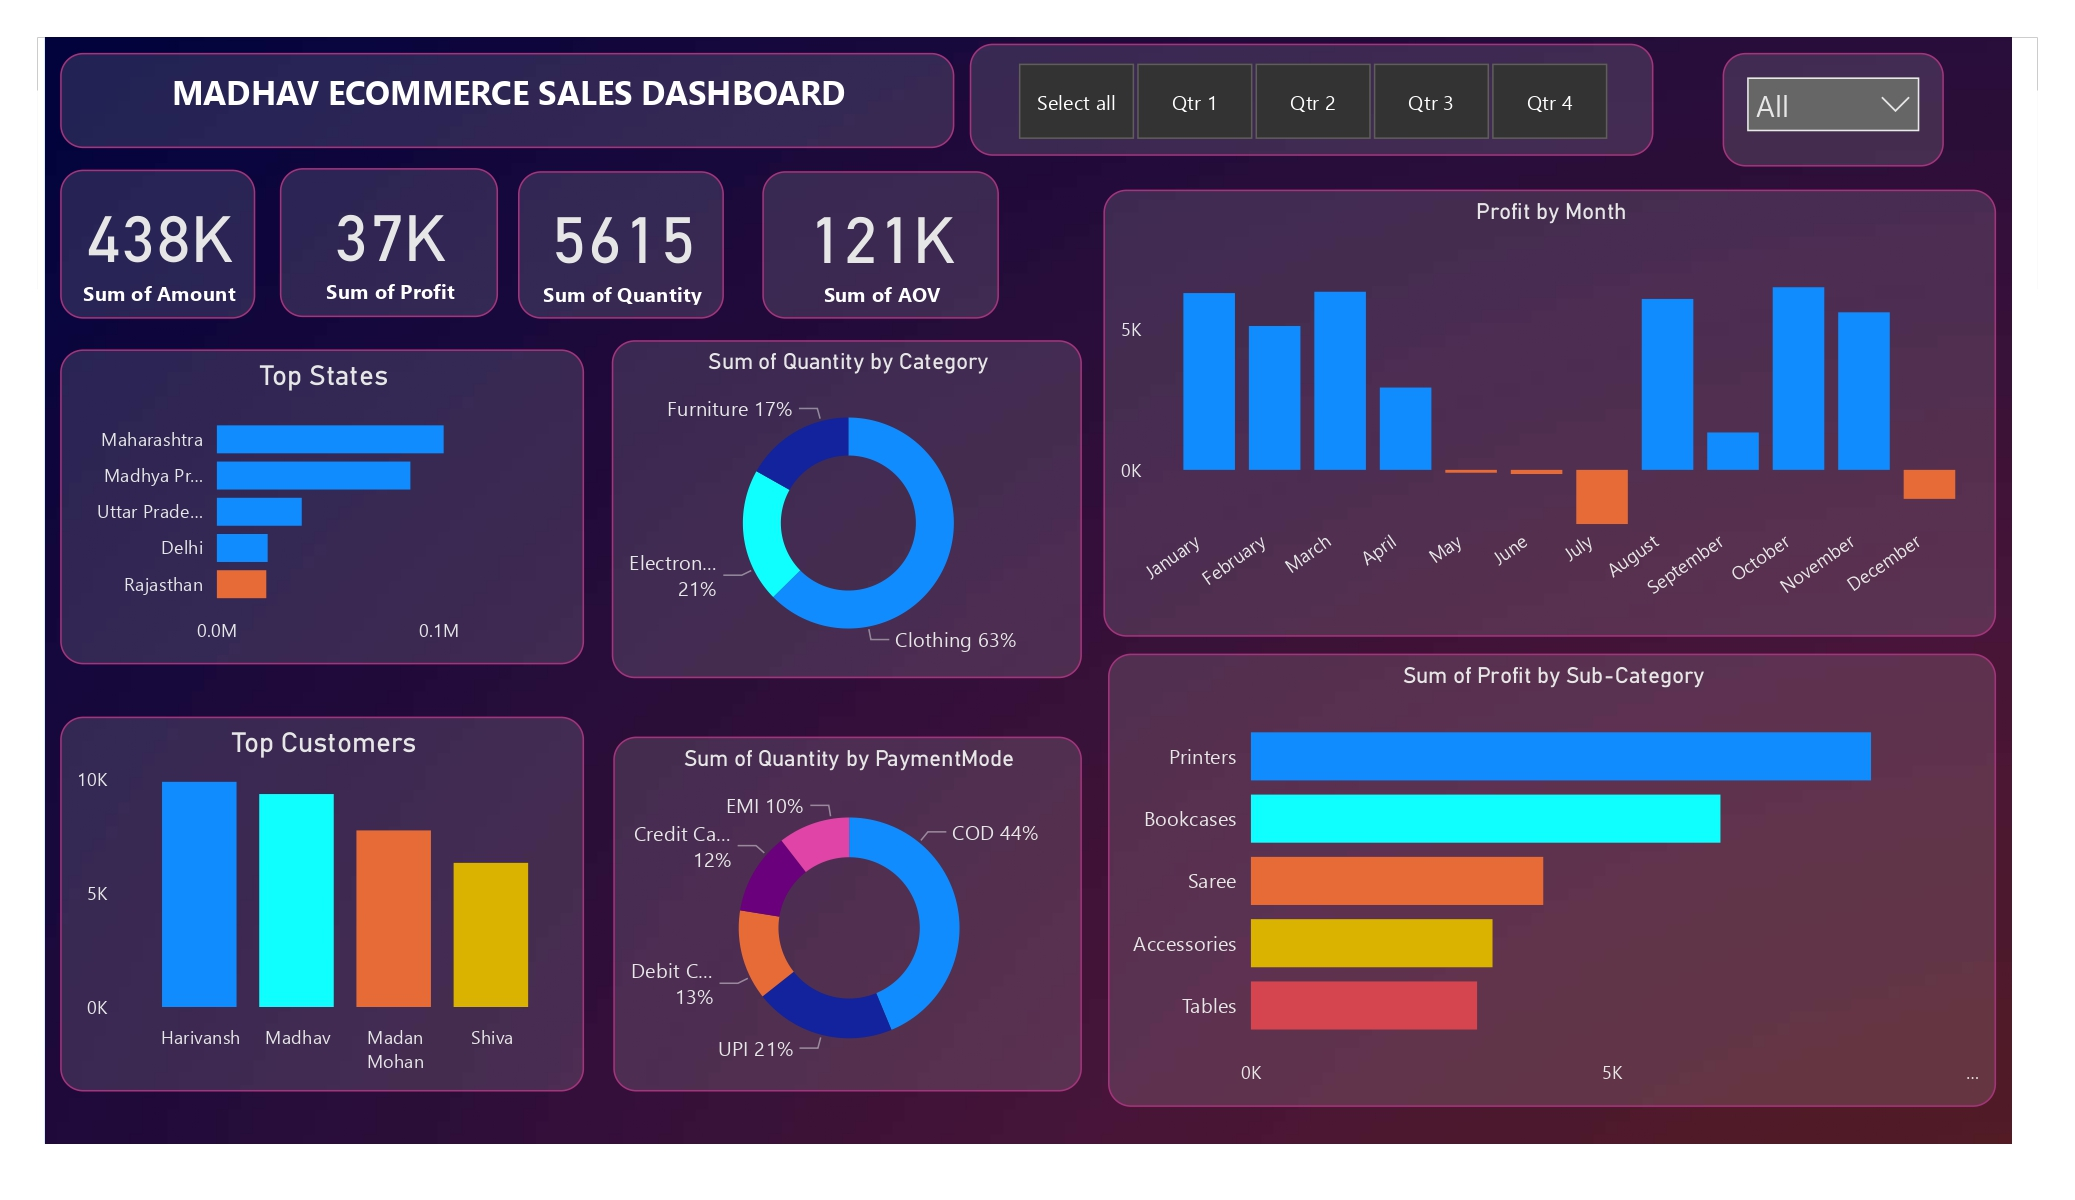

This screenshot's page, from the dashboard's own definition file:
{"tool":"powerbi","page":{"name":"Page 1","canvas":[1280,720],"ordinal":0},"visuals":[{"type":"textbox","box":[9.9,9.9,582.5,62.4],"z":0},{"type":"columnChart","title":"Profit by Month","fields":{"Category":["Orders.Order Date.Variation.Date Hierarchy.Month"],"Y":["Details.Profit"]},"box":[688.8,99.2,581.1,290.6],"z":1000},{"type":"barChart","fields":{"Category":["Details.Sub-Category"],"Y":["Details.Profit"]},"box":[691.7,401.1,578.3,294.8],"z":2000},{"type":"donutChart","fields":{"Y":["Details.Quantity"],"Category":["Details.Category"]},"box":[368.5,197,306.1,219.7],"z":3000},{"type":"donutChart","fields":{"Y":["Details.Quantity"],"Category":["Details.PaymentMode"]},"box":[369.9,455,304.7,231],"z":4000},{"type":"card","fields":{"Values":["Details.Amount"]},"box":[9.9,86.5,127.6,96.4],"z":5000},{"type":"card","fields":{"Values":["Details.Quantity"]},"box":[307.6,86.9,134.6,96.4],"z":6000},{"type":"card","fields":{"Values":["Details.Profit"]},"box":[153.1,85.5,141.7,96.4],"z":7000},{"type":"card","fields":{"Values":["Details.AOV"]},"box":[467.1,87.1,154.3,95.7],"z":8000},{"type":"barChart","title":"Top States","fields":{"Category":["Orders.State"],"Y":["Details.Amount"]},"box":[9.9,202.7,341.6,205.5],"z":8001},{"type":"columnChart","title":"Top Customers","fields":{"Category":["Orders.CustomerName"],"Y":["Details.Amount"]},"box":[9.9,442.2,341.6,243.8],"z":8002},{"type":"slicer","fields":{"Values":["Orders.Order Date.Variation.Date Hierarchy.Quarter"]},"box":[602.4,4.3,445,72.3],"z":8003},{"type":"slicer","fields":{"Values":["Orders.State"]},"box":[1091.9,10.1,144.5,73.9],"z":8004}]}

Visuals, with their boxes on the page's 1280x720 design canvas (x1, y1, x2, y2). These are canvas units, not pixel positions in the 2075x1200 screenshot, which may show the page scaled, cropped or inside an application window:
textbox: [x1=10, y1=10, x2=592, y2=72]
"Profit by Month" columnChart: [x1=689, y1=99, x2=1270, y2=390]
barChart - Details.Sub-Category x Details.Profit: [x1=692, y1=401, x2=1270, y2=696]
donutChart - Details.Quantity x Details.Category: [x1=368, y1=197, x2=675, y2=417]
donutChart - Details.Quantity x Details.PaymentMode: [x1=370, y1=455, x2=675, y2=686]
card - Details.Amount: [x1=10, y1=86, x2=138, y2=183]
card - Details.Quantity: [x1=308, y1=87, x2=442, y2=183]
card - Details.Profit: [x1=153, y1=86, x2=295, y2=182]
card - Details.AOV: [x1=467, y1=87, x2=621, y2=183]
"Top States" barChart: [x1=10, y1=203, x2=352, y2=408]
"Top Customers" columnChart: [x1=10, y1=442, x2=352, y2=686]
slicer - Orders.Order Date.Variation.Date Hierarchy.Quarter: [x1=602, y1=4, x2=1047, y2=77]
slicer - Orders.State: [x1=1092, y1=10, x2=1236, y2=84]
